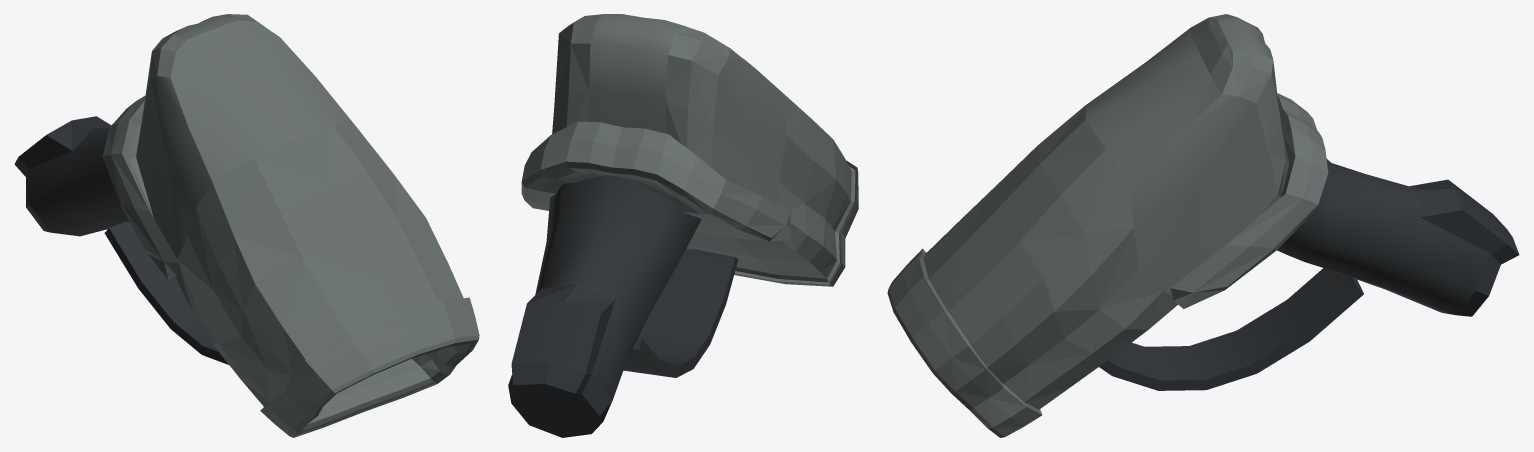
Rendered from SM_scanner.fbx.
3 views of the same model, side by side, from view 1: azimuth 30°, elevation 25°; view 2: azimuth 150°, elevation 25°; view 3: azimuth 270°, elevation 25° (orthographic). The views are drawn at different scales.
Parts seen in each view (by area): view 1: scanner; view 2: scanner; view 3: scanner.
Part boxes in pixels (left/top/right/bottom): scanner: left=14, top=14, right=479, bottom=437; scanner: left=508, top=14, right=858, bottom=437; scanner: left=887, top=14, right=1519, bottom=437.
Bounding box in the file's own units: 15.9 × 20.73 × 34.64.
